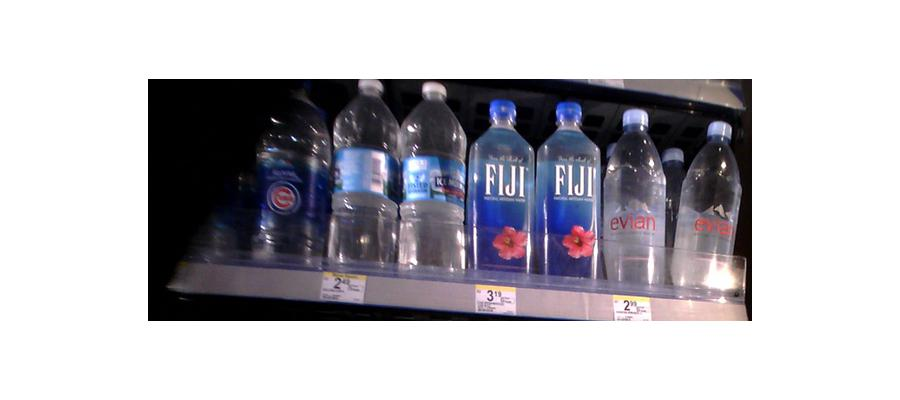bottle: (328, 78, 399, 270), (254, 84, 328, 265), (399, 81, 466, 273), (672, 121, 742, 300), (603, 110, 670, 292), (535, 105, 601, 286), (470, 97, 535, 278)
